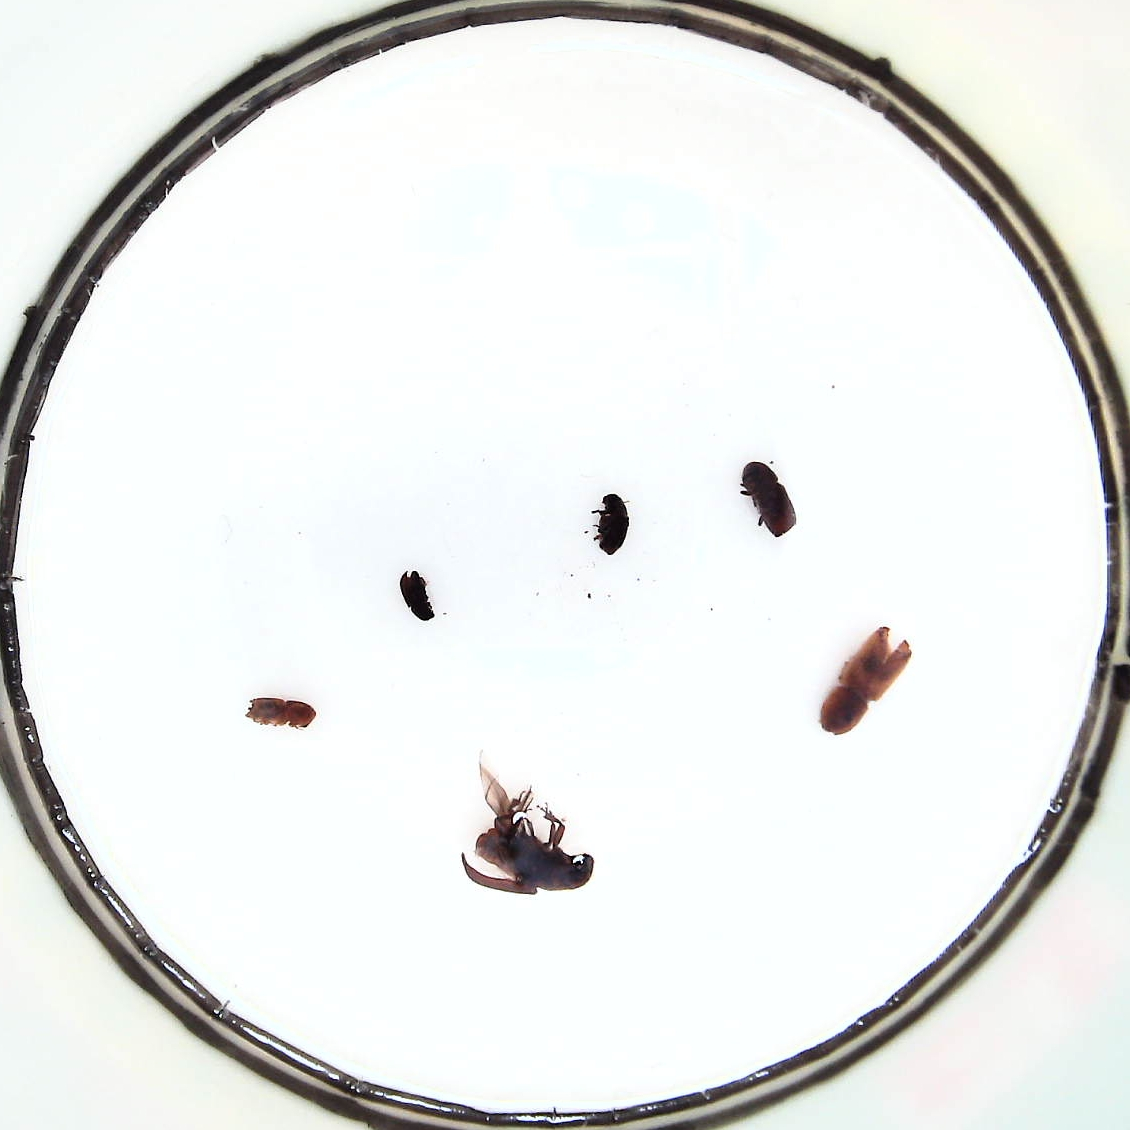Boerner: (817, 626, 912, 736)
Leconte: (463, 787, 593, 894)
acuminatus: (597, 493, 628, 556)
coleoptera: (399, 572, 434, 623)
linnaeus: (740, 460, 797, 538), (244, 698, 317, 728)
